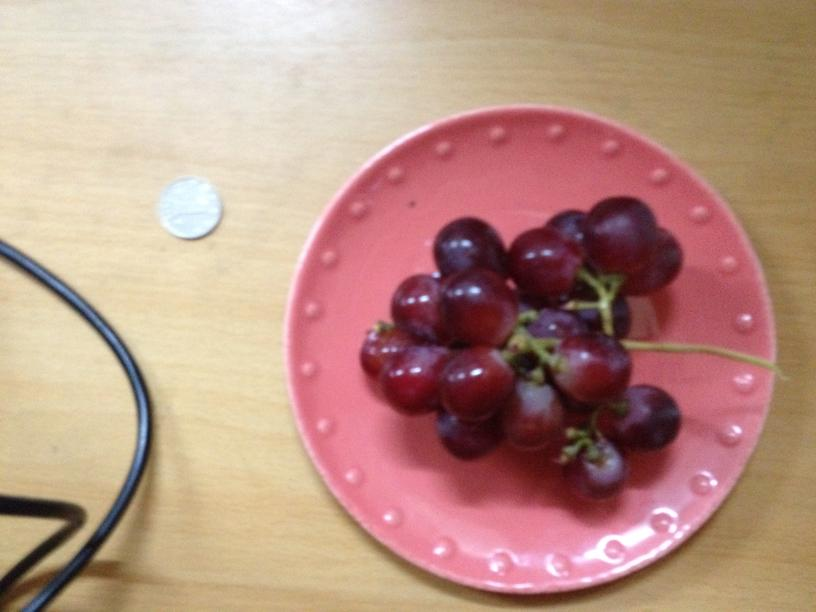coin: (157, 175, 222, 238)
grape: (359, 191, 684, 501)
